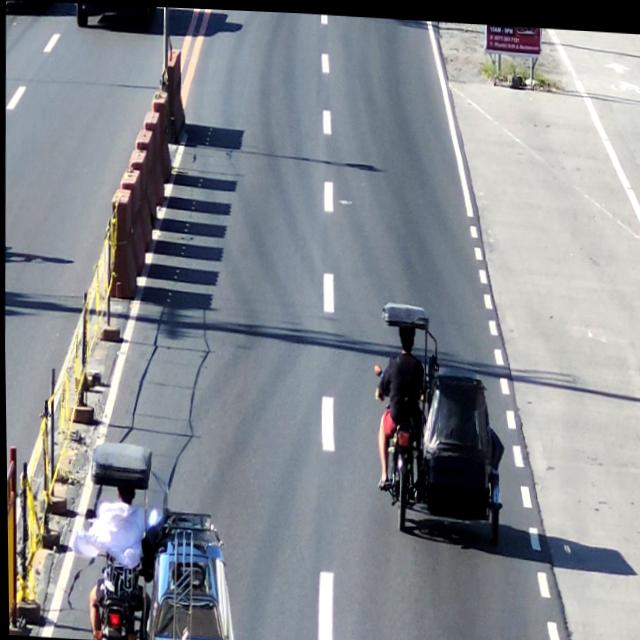Tricycle: (368, 291, 515, 558), (71, 435, 248, 640)
